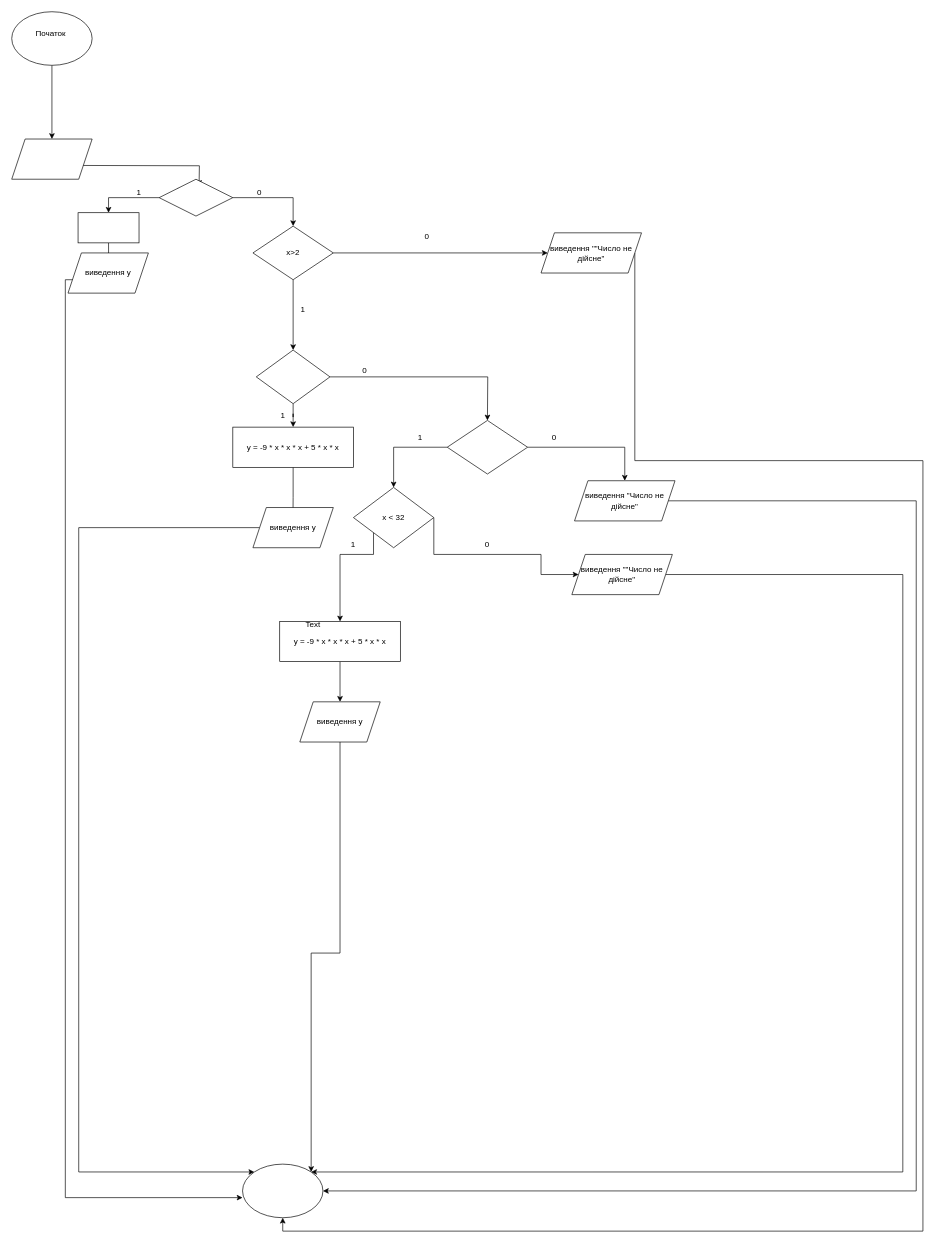
Image size: 940x1248. Some labels were removed from this diagram. The shapes that lost their labels are listed below. From the top down, each one's box as (x1, y1, x2, y2) in pixels, then its label:
(11, 138, 92, 179): введення x
(158, 179, 233, 216): x <= 0
(77, 212, 139, 243): y = -x * x - 12
(256, 349, 330, 404): x <=12
(447, 420, 528, 474): x > 22
(242, 1163, 323, 1218): Кiнець
